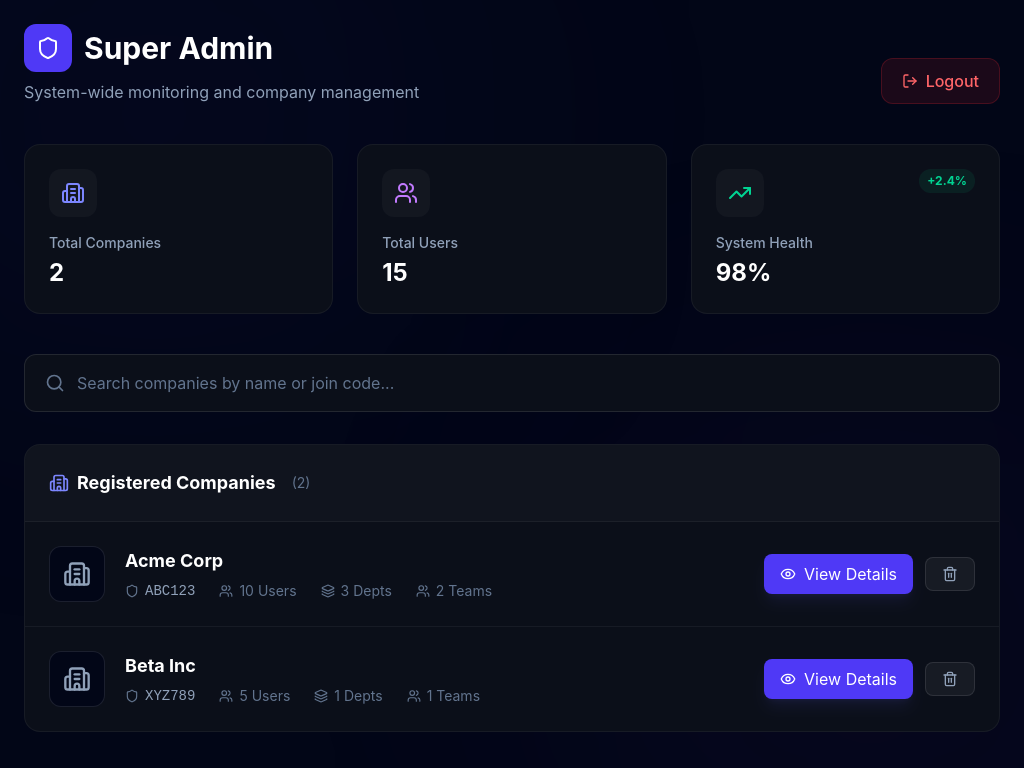
it: SuperAdminDashboardPage coverage dedicated › drills into company detail view
The width and height of the screenshot is (1024, 768).
Expected: the heading "Acme Corp" is shown, [125, 547, 223, 575]
Click the button "View Details" in the row of "10": (839, 574) [764, 554, 913, 594]
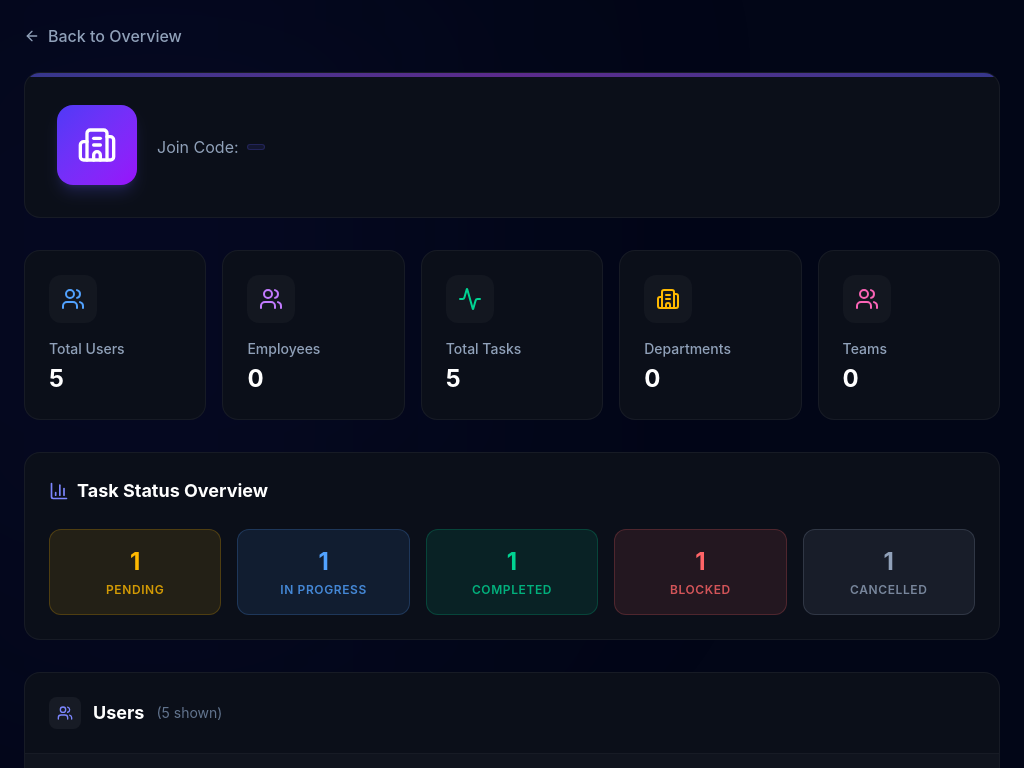
Now the text "Back to Overview" is shown, box [48, 24, 182, 48]
